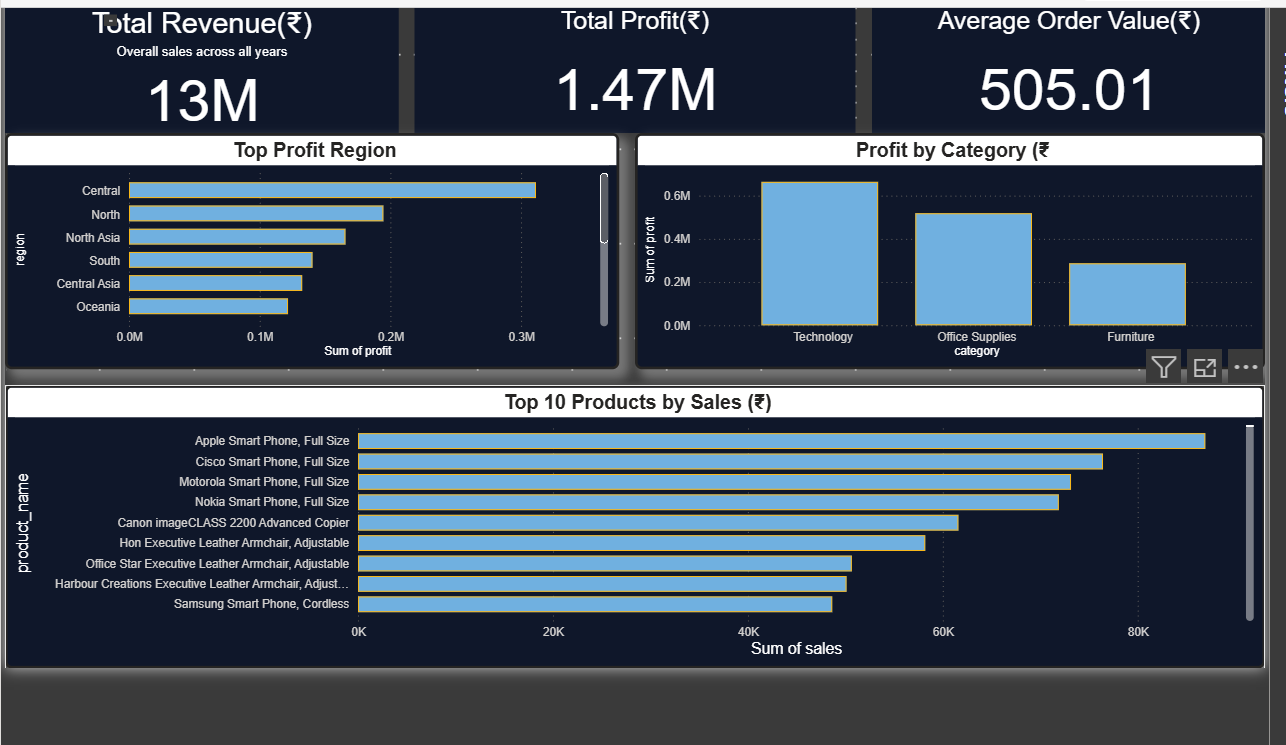

The dashboard page shown, as its layout file describes it:
{"tool":"powerbi","page":{"name":"Executive Summary","canvas":[1280,720],"ordinal":0},"visuals":[{"type":"card","title":"Total Revenue(₹)","fields":{"Values":["Sum(Sales csv.sales)"]},"box":[0,16,400,144],"z":0},{"type":"card","title":"Total Profit(₹)","fields":{"Values":["Sum(Sales csv.profit)"]},"box":[416,16,448,144],"z":1000},{"type":"card","title":"Average Order Value(₹)","fields":{"Values":["Sales csv.Average_order"]},"box":[880,16,400,144],"z":2000},{"type":"barChart","title":"Top Profit Region","fields":{"Category":["Sales csv.region"],"Y":["Sum(Sales csv.profit)"]},"box":[0,176,624,240],"z":4000},{"type":"columnChart","title":"Profit by Category (₹","fields":{"Category":["Sales csv.category"],"Y":["Sum(Sales csv.profit)"]},"box":[640,176,640,240],"z":5000},{"type":"barChart","title":"Top 10 Products by Sales (₹)","fields":{"Category":["Sales csv.product_name"],"Y":["Sum(Sales csv.sales)"]},"box":[0,432,1280,288],"z":6000},{"type":"textbox","box":[99.9,56,13.6,12.1],"z":7000}]}

Visuals, with their boxes in screenshot pixels (x1, y1, x2, y2), scaled from the page's 1280x720 canvas onto the 1286x745 screenshot:
"Total Revenue(₹)" card: pyautogui.locateOnScreen(0, 17, 402, 166)
"Total Profit(₹)" card: pyautogui.locateOnScreen(418, 17, 868, 166)
"Average Order Value(₹)" card: pyautogui.locateOnScreen(884, 17, 1285, 166)
"Top Profit Region" barChart: pyautogui.locateOnScreen(0, 182, 627, 430)
"Profit by Category (₹" columnChart: pyautogui.locateOnScreen(643, 182, 1285, 430)
"Top 10 Products by Sales (₹)" barChart: pyautogui.locateOnScreen(0, 447, 1285, 744)
textbox: pyautogui.locateOnScreen(100, 58, 114, 70)
